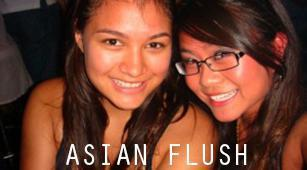Drunk: (88, 4, 169, 103), (178, 32, 259, 119)
